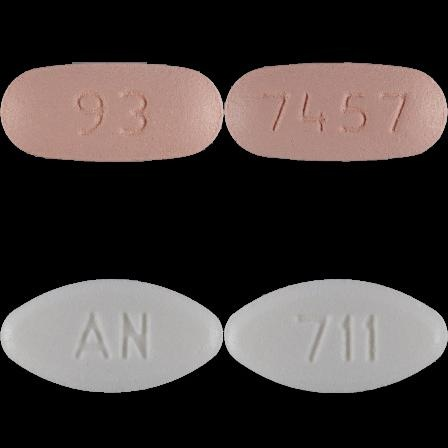42291-306: (0, 0, 224, 224)
